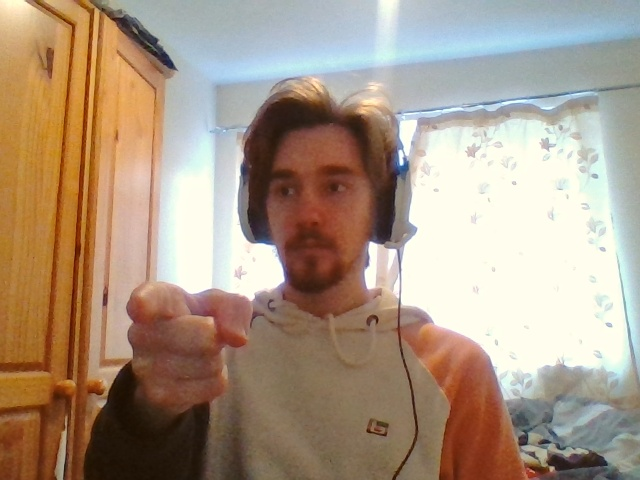you: (125, 281, 253, 406)
